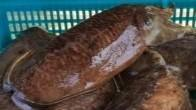Cephalopod: (10, 6, 194, 105)
